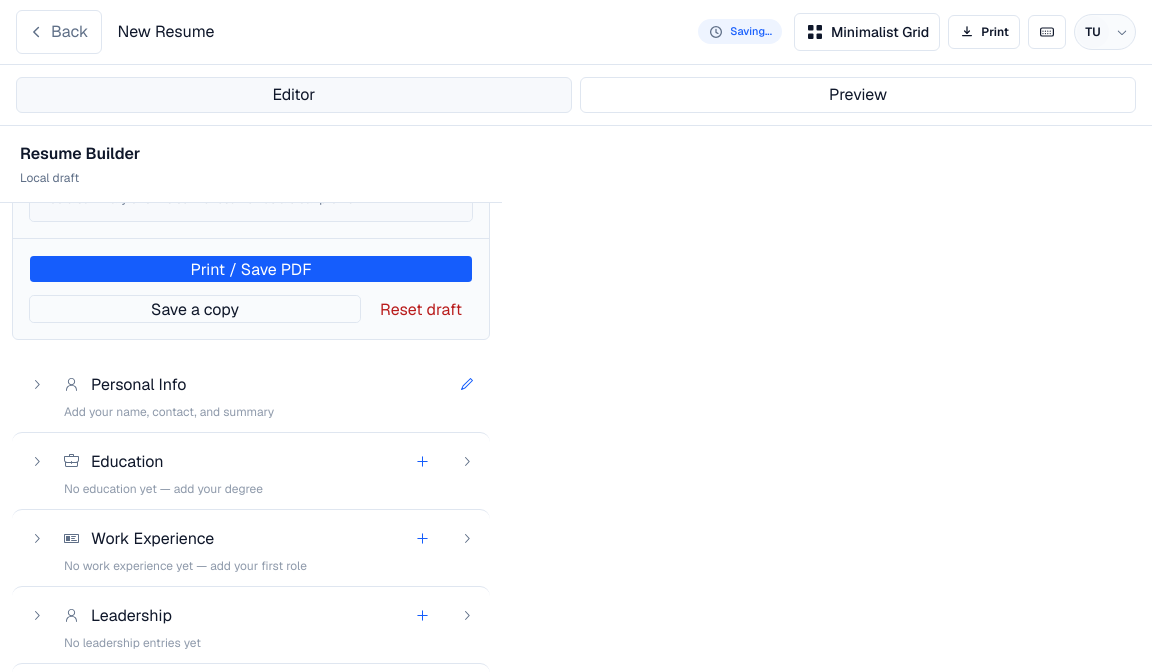
Test: AnalysisWorkspace create mode › section plus buttons create editable education and experience entries
(page scrolled)
Check: the element "Education" is shown, box x1=12 y1=432 x2=490 y2=509
Click the 1st button named "add item" at [422, 461], box x1=406 y1=445 x2=438 y2=477
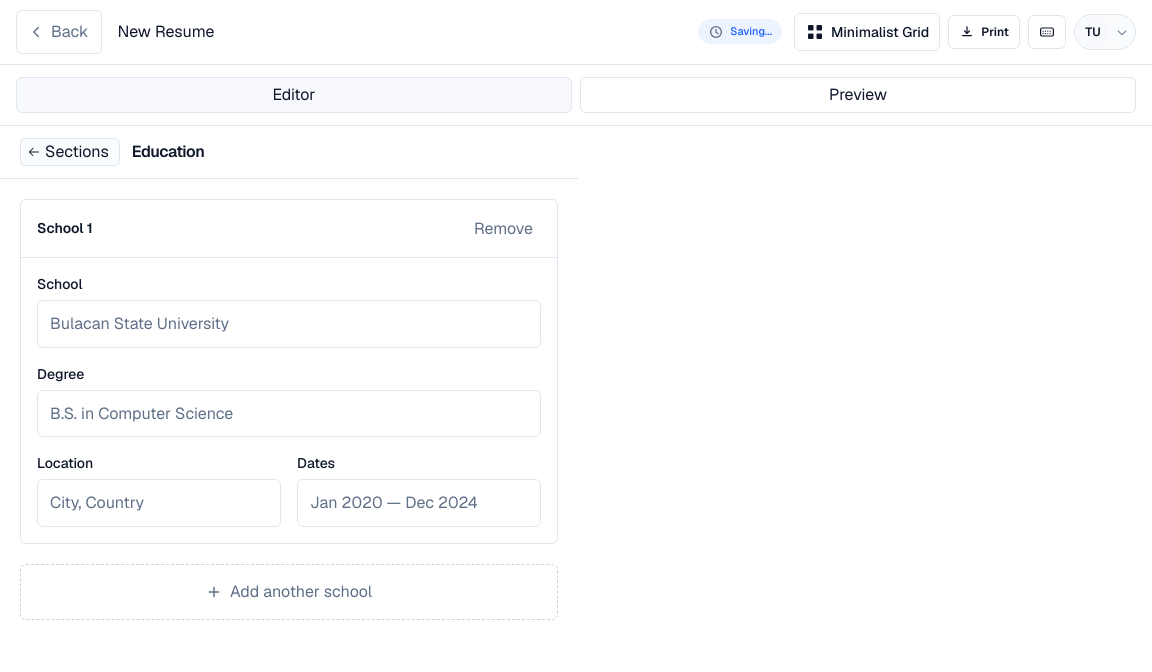
Check: the heading "Education" is shown, box x1=132 y1=140 x2=204 y2=164
Check: the field with placeholder "Bulacan State University" is shown, box x1=37 y1=300 x2=541 y2=348
Click the button with aria-label "back to resume sections" at [70, 152], box x1=20 y1=138 x2=120 y2=166
(page scrolled)
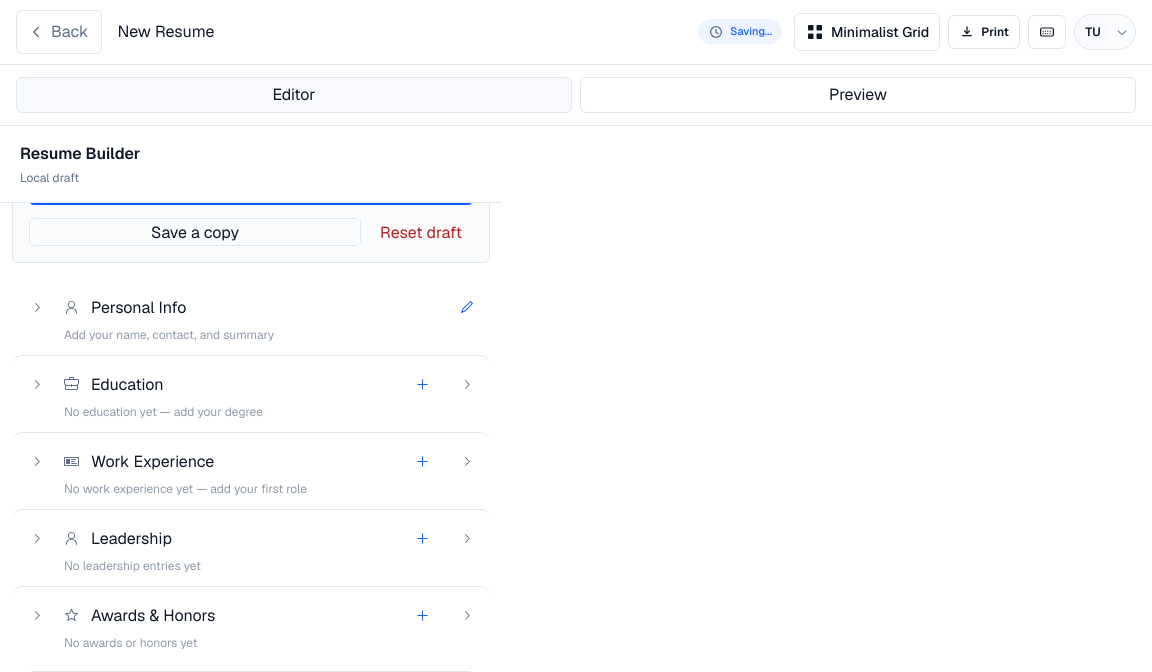
Check: the element "Work Experience" is shown, box x1=12 y1=432 x2=490 y2=509
Click the 2nd button named "add item" at [422, 461], box x1=406 y1=445 x2=438 y2=477
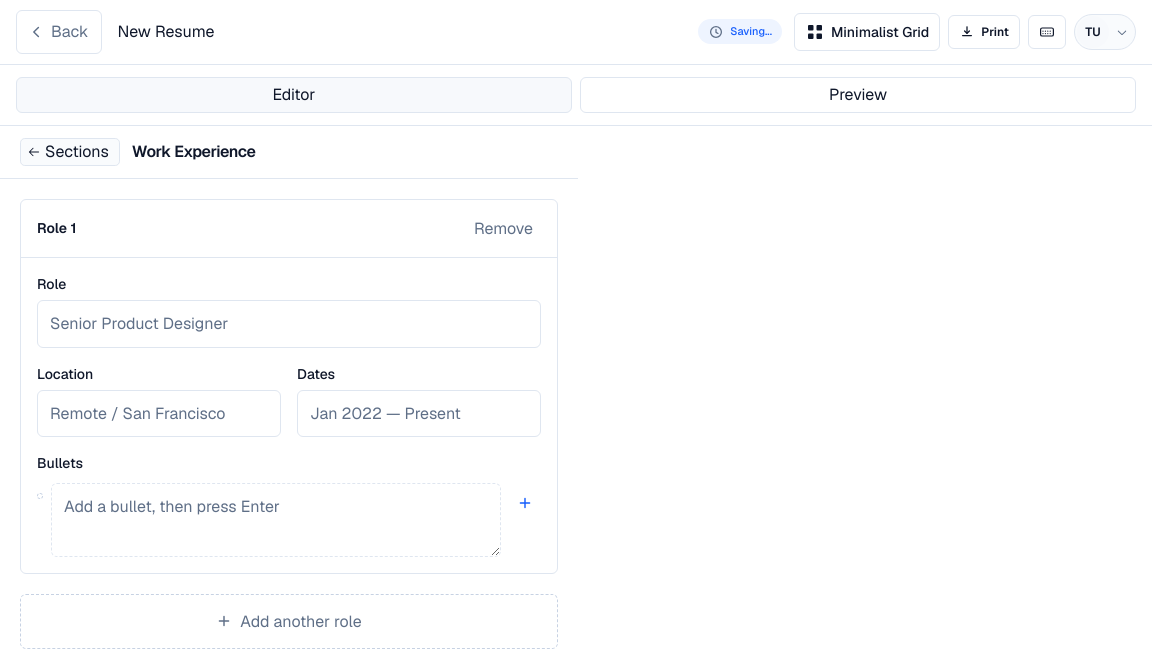
Check: the heading "Work Experience" is shown, box x1=132 y1=140 x2=256 y2=164
Check: the field with placeholder "Senior Product Designer" is shown, box x1=37 y1=300 x2=541 y2=348
